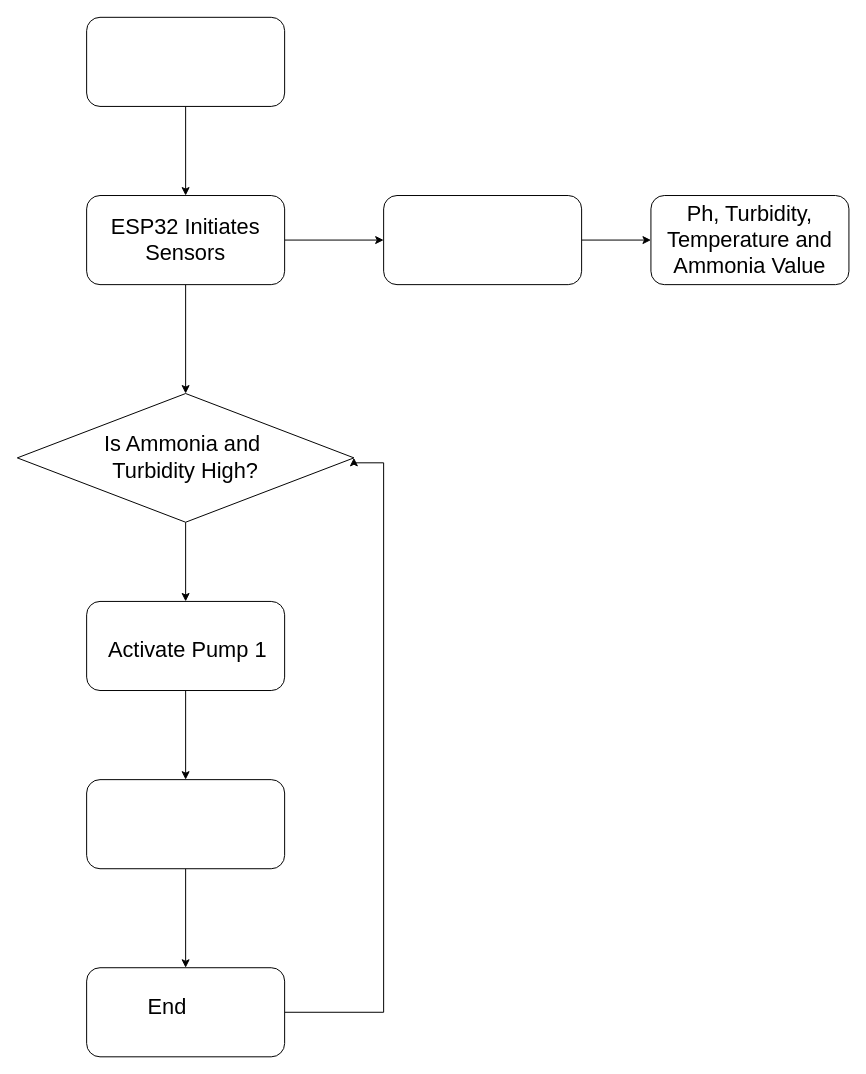
This 866x1074 diagram has some shape labels left out. The shapes that lost their labels are listed below. From the top down, each one's centre as x and y in pixels, then its label:
point 185,61: Start
point 482,240: Display Values on Website Interface
point 185,824: Activate Pump 2
